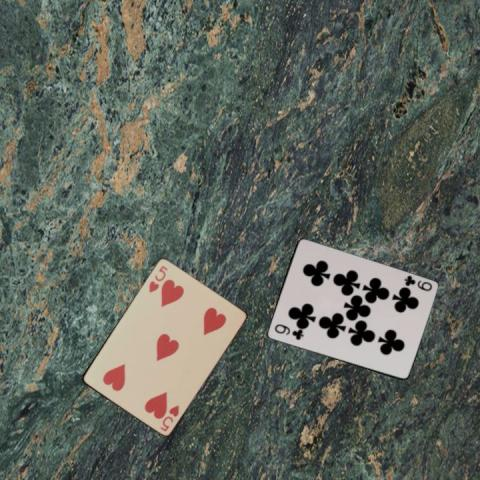5h: (157, 402, 181, 433), (146, 263, 169, 294)
9c: (271, 322, 305, 341), (401, 272, 433, 292)
